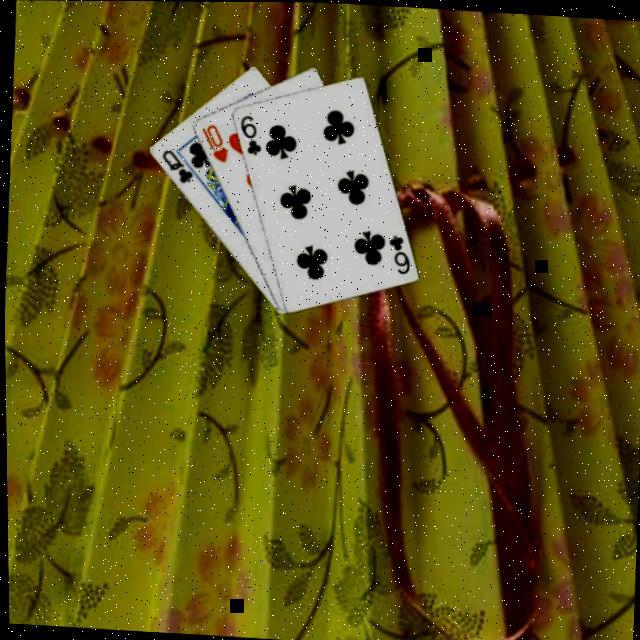10H: (195, 119, 230, 164)
6C: (233, 110, 264, 156), (382, 230, 412, 276)
QC: (156, 144, 196, 185)
